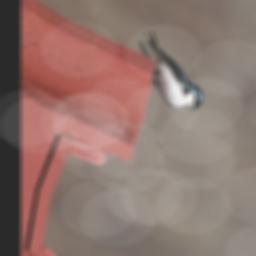Swallow: (128, 26, 213, 123)
